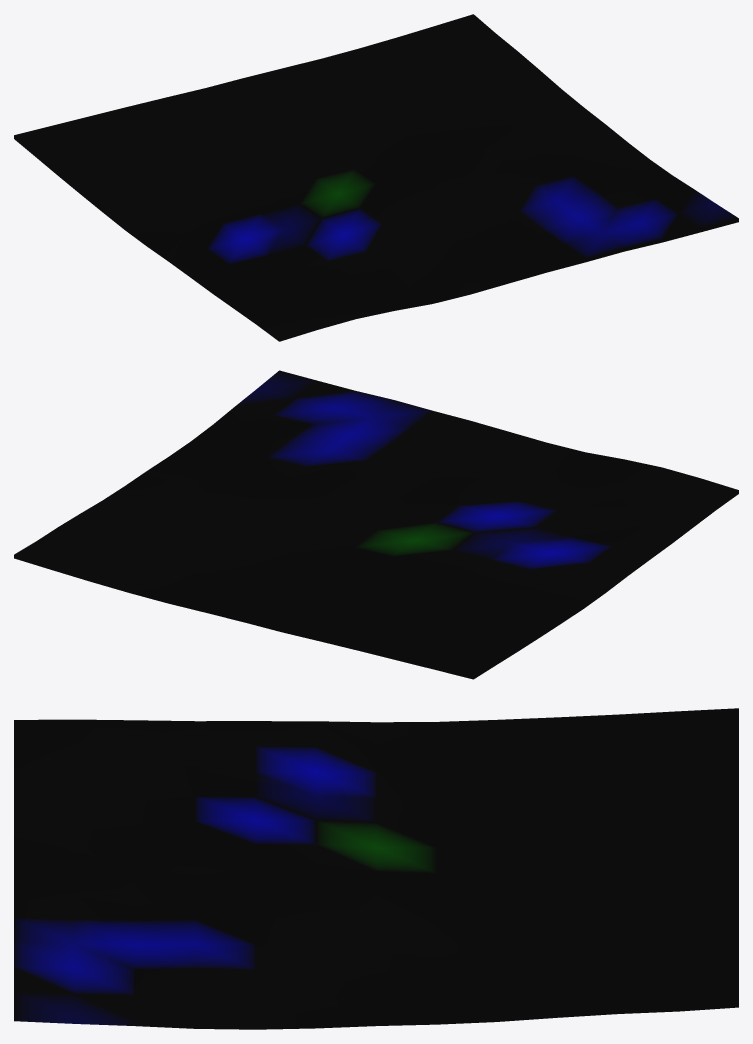
Rendered from coast_22_6.glb.
3 renders of one model, top to bottom at view 1: azimuth 30°, elevation 25°; view 2: azimuth 150°, elevation 25°; view 3: azimuth 270°, elevation 25°, orthographic. The views are drawn at different scales.
Visible parts, largest first — view 1: terrain; view 2: terrain; view 3: terrain.
Part boxes in pixels (left/top/right/bottom): terrain: left=14, top=14, right=738, bottom=341; terrain: left=14, top=370, right=738, bottom=679; terrain: left=14, top=708, right=738, bottom=1029.
Bounding box in the file's own units: 192 × 9.16 × 192.
